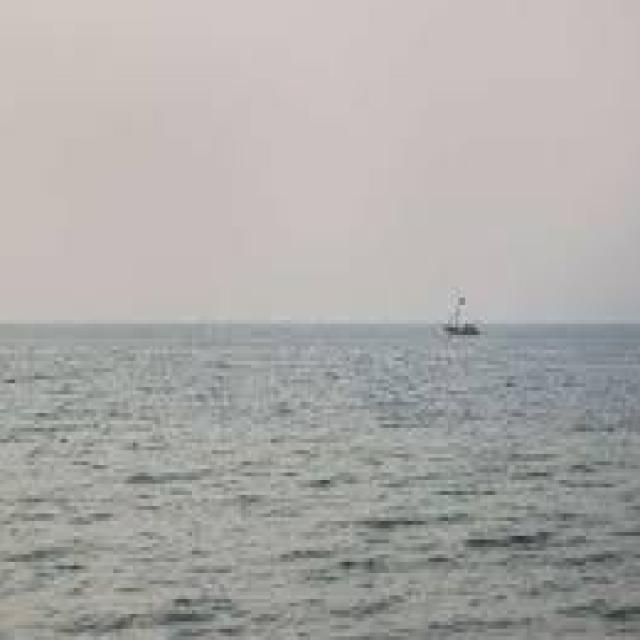fishing boat: (437, 284, 493, 343)
